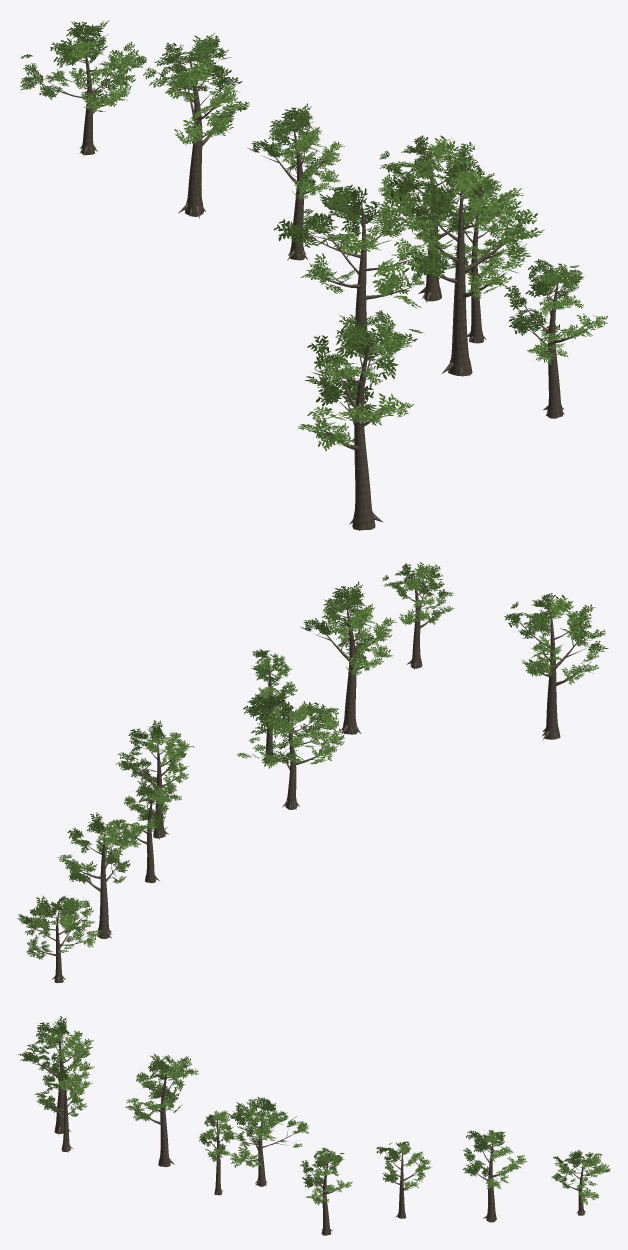
The model's file is Canopy_13_13.glb.
3 renders of one model, top to bottom at view 1: azimuth 30°, elevation 25°; view 2: azimuth 150°, elevation 25°; view 3: azimuth 270°, elevation 25°, orthographic. The views are drawn at different scales.
Parts seen in each view (by area): view 1: Canopy_13_13; view 2: Canopy_13_13; view 3: Canopy_13_13.
Boxes of the visible parts, left/top/right/bottom form: Canopy_13_13: left=20, top=20, right=607, bottom=530; Canopy_13_13: left=17, top=562, right=608, bottom=983; Canopy_13_13: left=18, top=1016, right=610, bottom=1235.
Bounding box in the file's own units: 46.07 × 28.53 × 99.87.
Materials: 2 (2 with a texture image).
